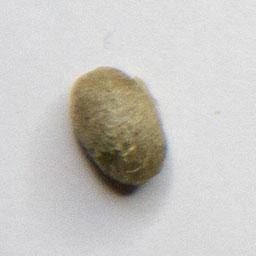peaberry: (65, 61, 172, 190)
